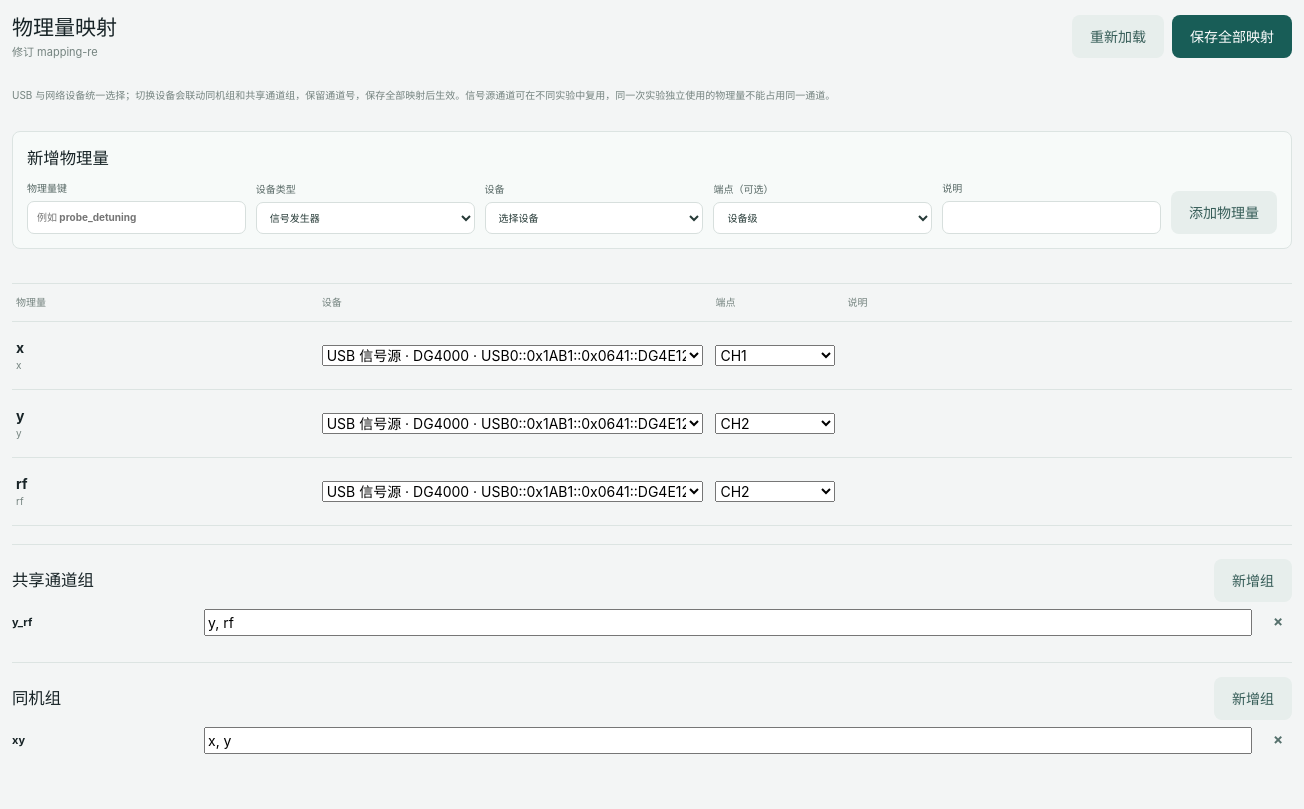
Test: 物理量设备成组切换 › 目标缺少其他组员的通道时整个草稿保持原设备
Select "单通道信号源 · DG900 · TCPIP0::192.168.124.32::INSTR · DG9Q322" in the dropdown named "x 设备". click: (513, 355)
box: 322,345 -> 704,366
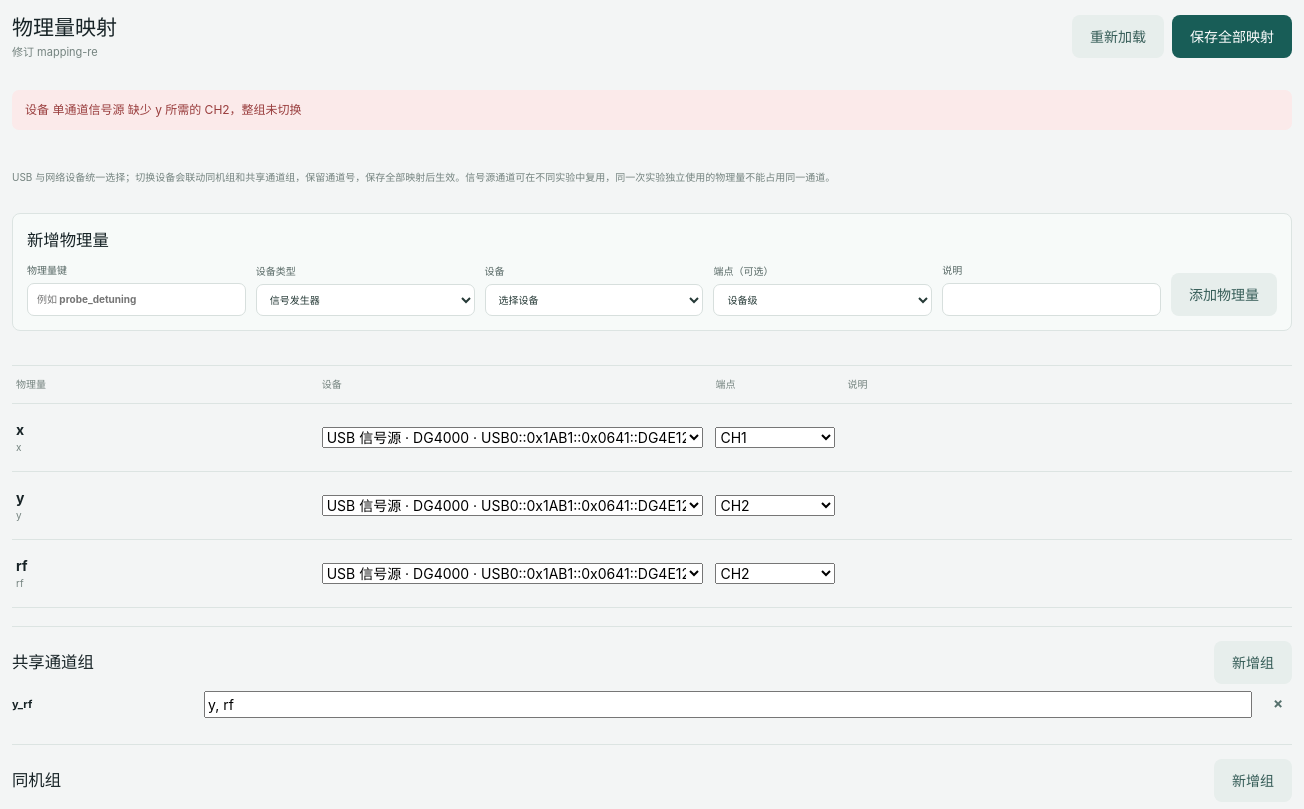
Expected: the dropdown named "y 端点" shows "CH2", 716,495 -> 836,516
Expected: the text "设备 单通道信号源 缺少 y 所需的 CH2，整组未切换" is shown, 12,90 -> 1292,130
